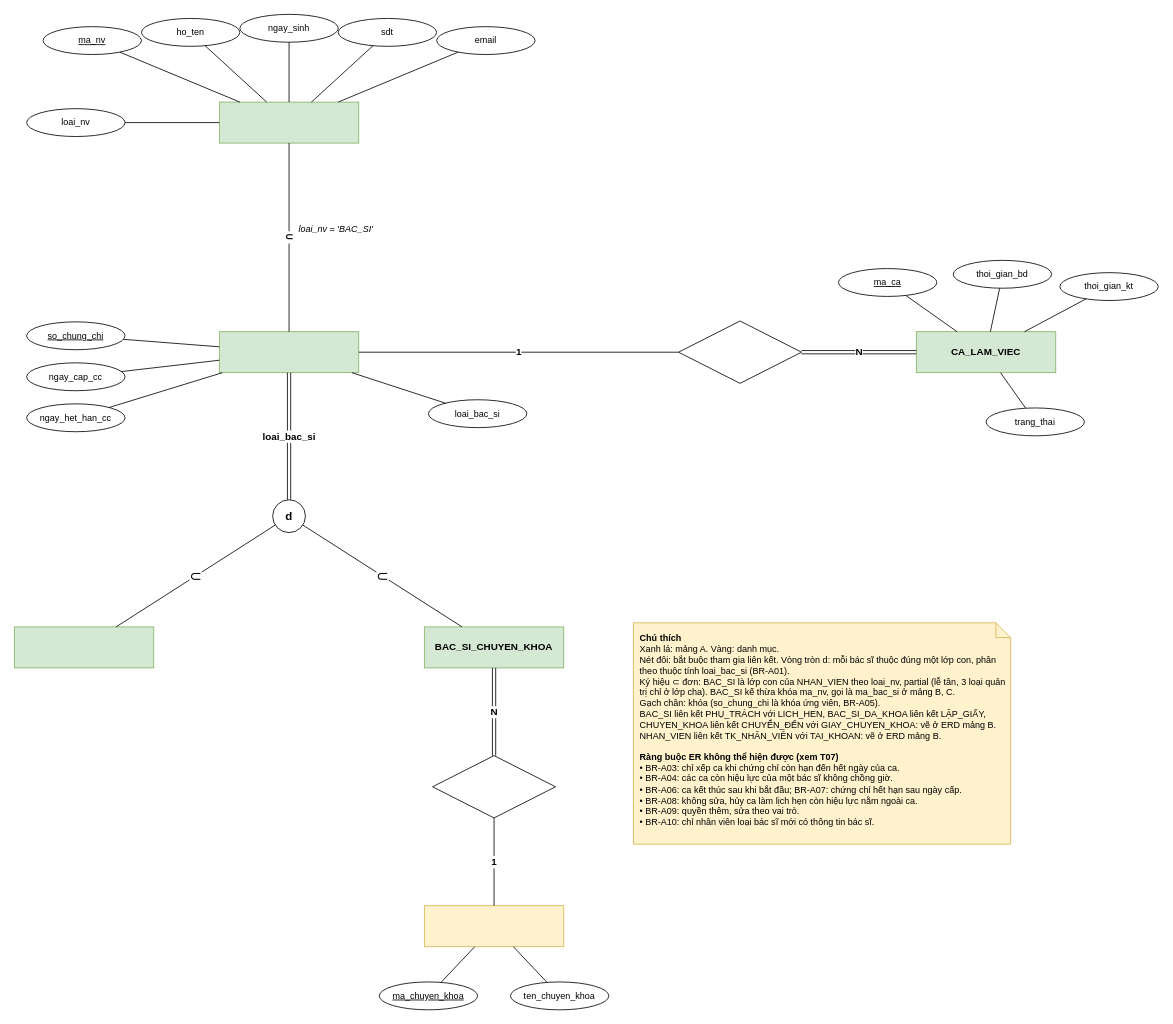
Image size: 1173x1024. Some labels were removed from this diagram. The shapes that lost their labels are listed below. From the top down, each one's centre as x and y in pixels, then its label:
point (289, 122): NHAN_VIEN
point (289, 352): BAC_SI
point (740, 351): XẾP_CA
point (84, 647): BAC_SI_DA_KHOA
point (494, 786): THUỘC
point (494, 926): CHUYEN_KHOA
